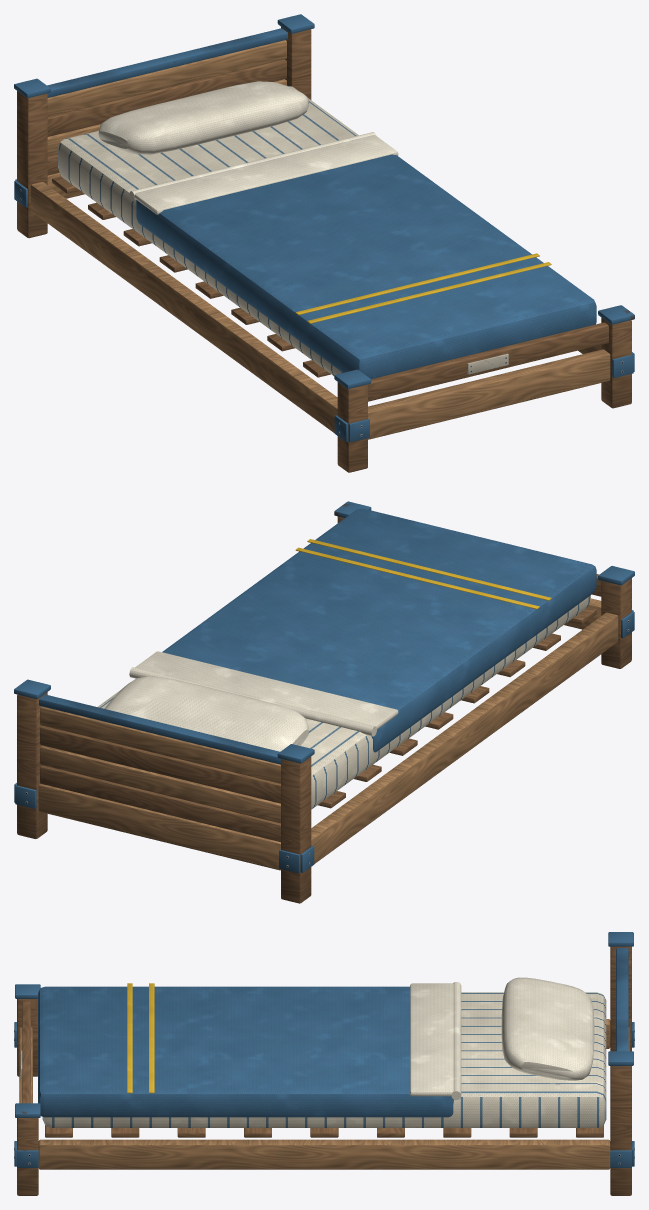
The model's file is respawn_bed.glb.
3 renders of one model, top to bottom at view 1: azimuth 30°, elevation 25°; view 2: azimuth 150°, elevation 25°; view 3: azimuth 270°, elevation 25°, orthographic. The views are drawn at different scales.
Visible parts, largest first — view 1: Body; view 2: Body; view 3: Body.
Boxes of the visible parts, <box> form: Body: <box>14,14,634,472</box>; Body: <box>14,501,634,903</box>; Body: <box>14,932,634,1195</box>.
Size of the model in its own units: 0.9952 by 0.481 by 2.
10 materials, 9 textured.
